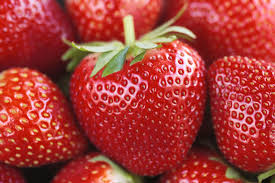strawberry: (71, 23, 209, 176), (2, 66, 90, 168), (206, 55, 275, 170)
